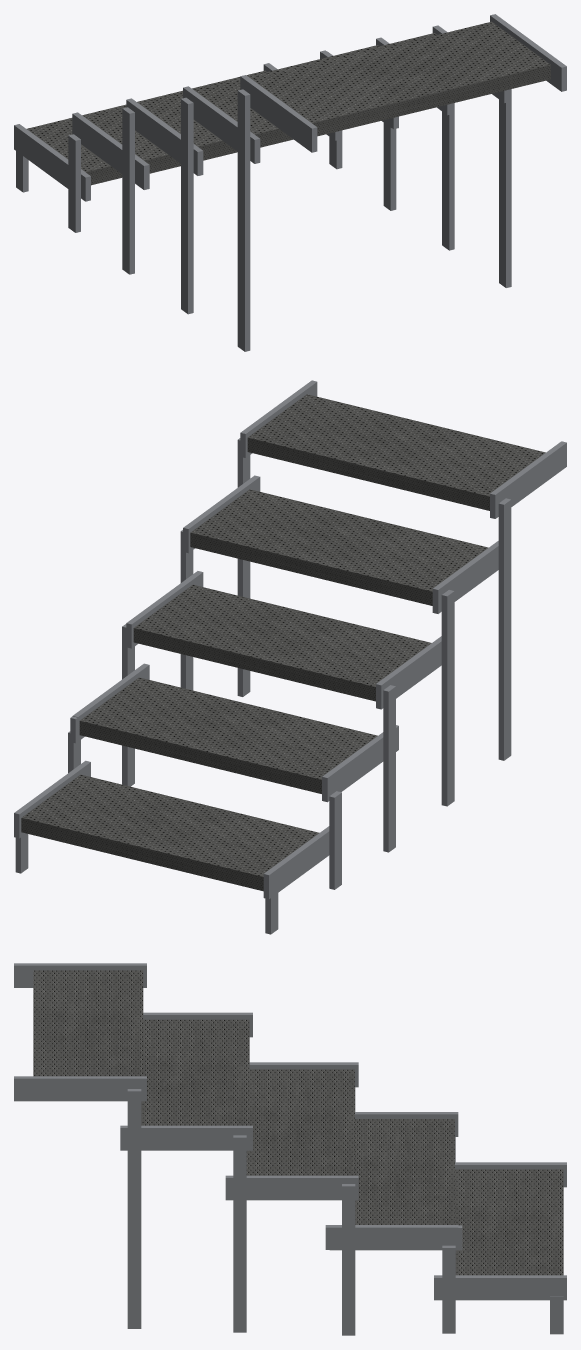
Rendered from StairsFinal.fbx.
The picture shows the model from 3 angles, top to bottom: view 1: azimuth 30°, elevation 25°; view 2: azimuth 150°, elevation 25°; view 3: azimuth 270°, elevation 25°; orthographic projection. The views are drawn at different scales.
Visible parts, largest first — view 1: Cube_13_2; view 2: Cube_13_2; view 3: Cube_13_2.
Part boxes in pixels (<box>): Cube_13_2: <box>14,14,566,351</box>; Cube_13_2: <box>14,380,566,934</box>; Cube_13_2: <box>14,963,566,1335</box>.
Size of the model in its own units: 213 by 210 by 412.
Materials: 2 (1 with a texture image).
